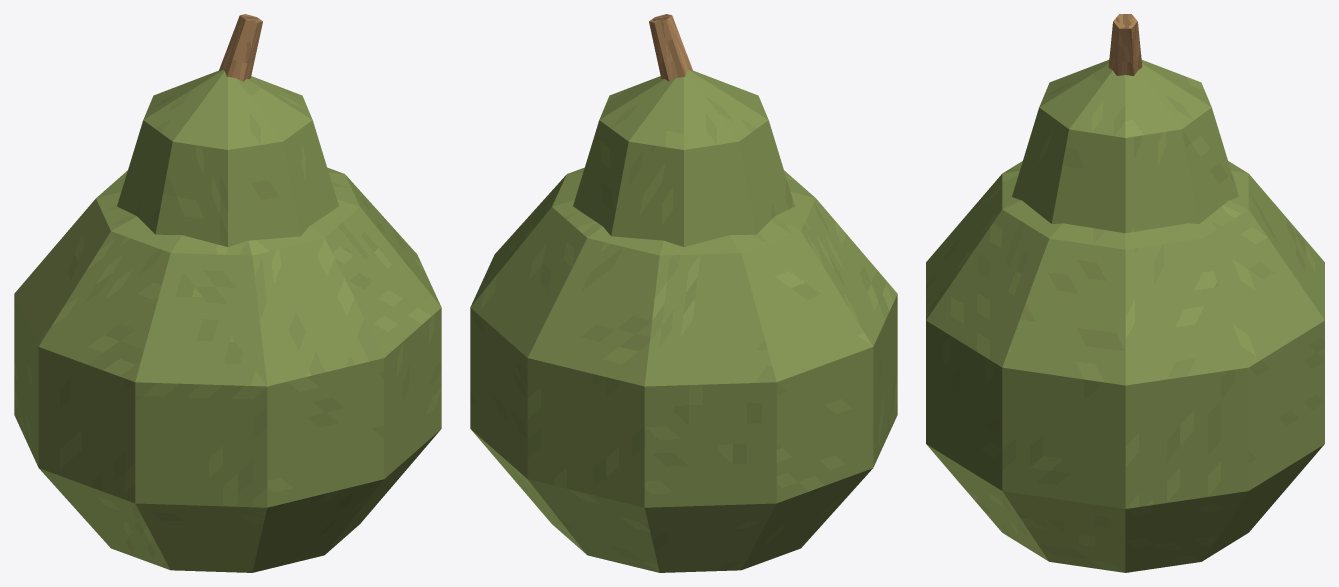
Rendered from pear.glb.
The picture shows the model from 3 angles, left to right: view 1: azimuth 30°, elevation 25°; view 2: azimuth 150°, elevation 25°; view 3: azimuth 270°, elevation 25°; orthographic projection.
Visible parts, largest first — view 1: block_main fruit or shell, block_pear neck, block_pear stem; view 2: block_main fruit or shell, block_pear neck, block_pear stem; view 3: block_main fruit or shell, block_pear neck, block_pear stem.
Part boxes in pixels (x1,y1,x2,y2): block_main fruit or shell: (14, 167, 441, 572); block_pear neck: (117, 70, 338, 246); block_pear stem: (219, 14, 262, 81); block_main fruit or shell: (470, 167, 897, 572); block_pear neck: (573, 70, 794, 246); block_pear stem: (649, 14, 692, 81); block_main fruit or shell: (926, 161, 1324, 572); block_pear neck: (1012, 60, 1238, 233); block_pear stem: (1108, 14, 1142, 75).
Size of the model in its own units: 0.0647 by 0.0875 by 0.0579.
1 material, 1 textured.
